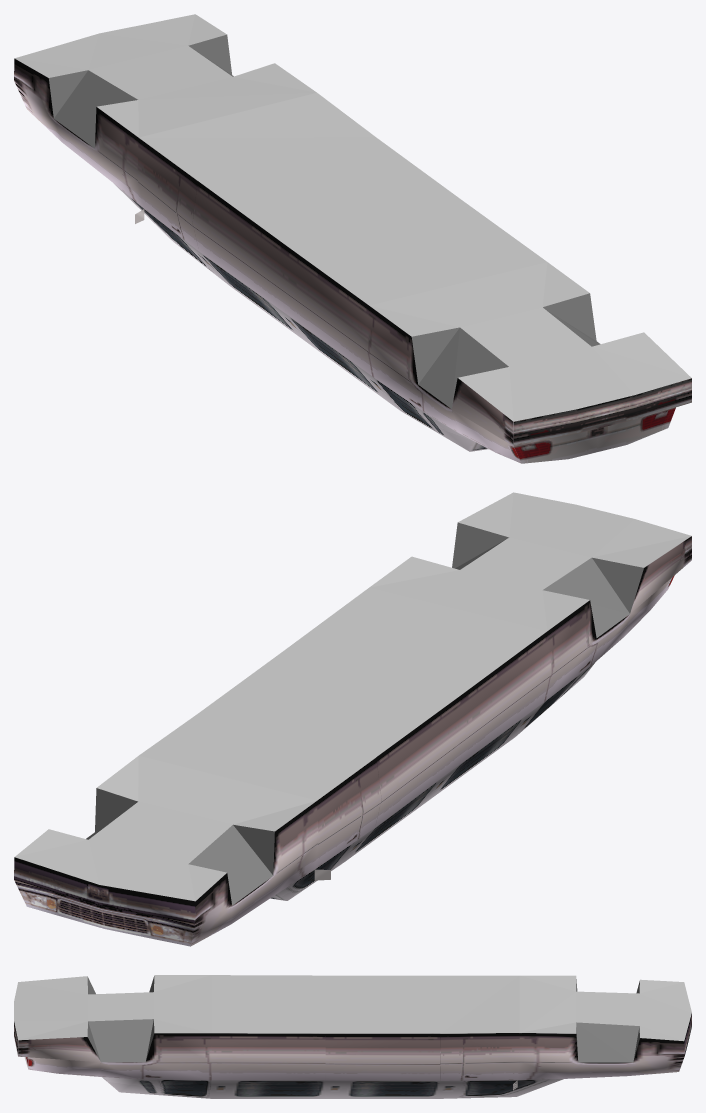
File: VEGAS_model8_clean.obj
The picture shows the model from 3 angles, top to bottom: view 1: azimuth 30°, elevation 25°; view 2: azimuth 150°, elevation 25°; view 3: azimuth 270°, elevation 25°; orthographic projection. The views are drawn at different scales.
Parts seen in each view (by area): view 1: VEGAS_model8_clean; view 2: VEGAS_model8_clean; view 3: VEGAS_model8_clean.
Boxes of the visible parts, <box> form: VEGAS_model8_clean: <box>14,14,691,463</box>; VEGAS_model8_clean: <box>14,492,691,946</box>; VEGAS_model8_clean: <box>14,975,691,1098</box>.
Size of the model in its own units: 294 by 168 by 1318.
